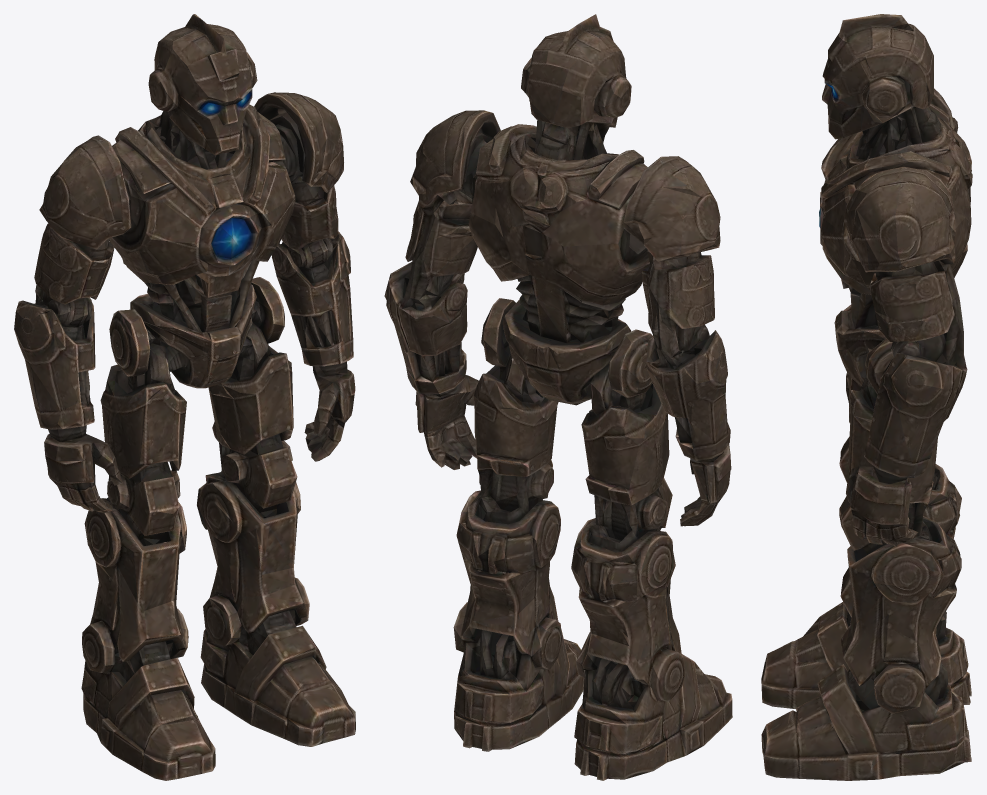
File: titan_standing.glb
3 views of the same model, side by side, from view 1: azimuth 30°, elevation 25°; view 2: azimuth 150°, elevation 25°; view 3: azimuth 270°, elevation 25° (orthographic). The views are drawn at different scales.
Visible parts, largest first — view 1: output_unwrapped; view 2: output_unwrapped; view 3: output_unwrapped.
Part boxes in pixels (bbox=[...]): output_unwrapped: bbox=[14, 14, 355, 780]; output_unwrapped: bbox=[384, 14, 732, 780]; output_unwrapped: bbox=[761, 14, 972, 780].
Size of the model in its own units: 0.9274 by 1.9 by 0.5109.
Materials: 1 (1 with a texture image).
